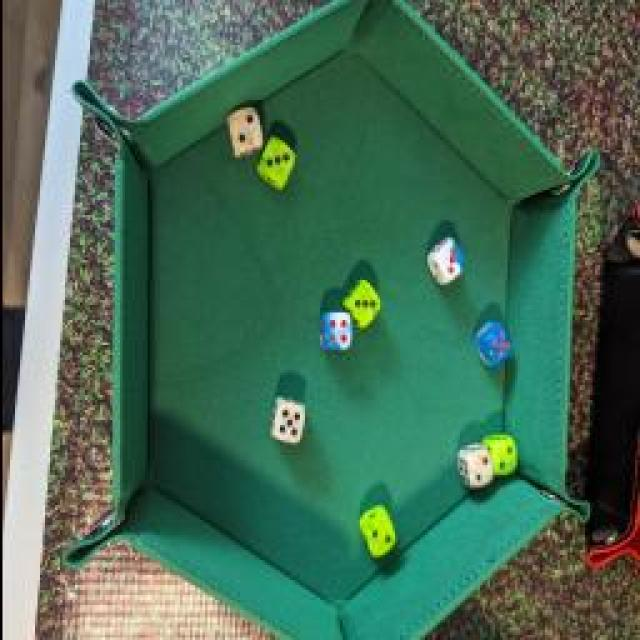dice_2: (355, 506, 395, 564), (225, 104, 265, 158), (482, 425, 516, 480), (452, 445, 492, 490)
dice_3: (422, 232, 468, 290), (252, 138, 298, 194), (341, 280, 381, 330)
dice_4: (314, 308, 351, 358)
dice_5: (265, 391, 305, 449), (471, 320, 511, 365)
